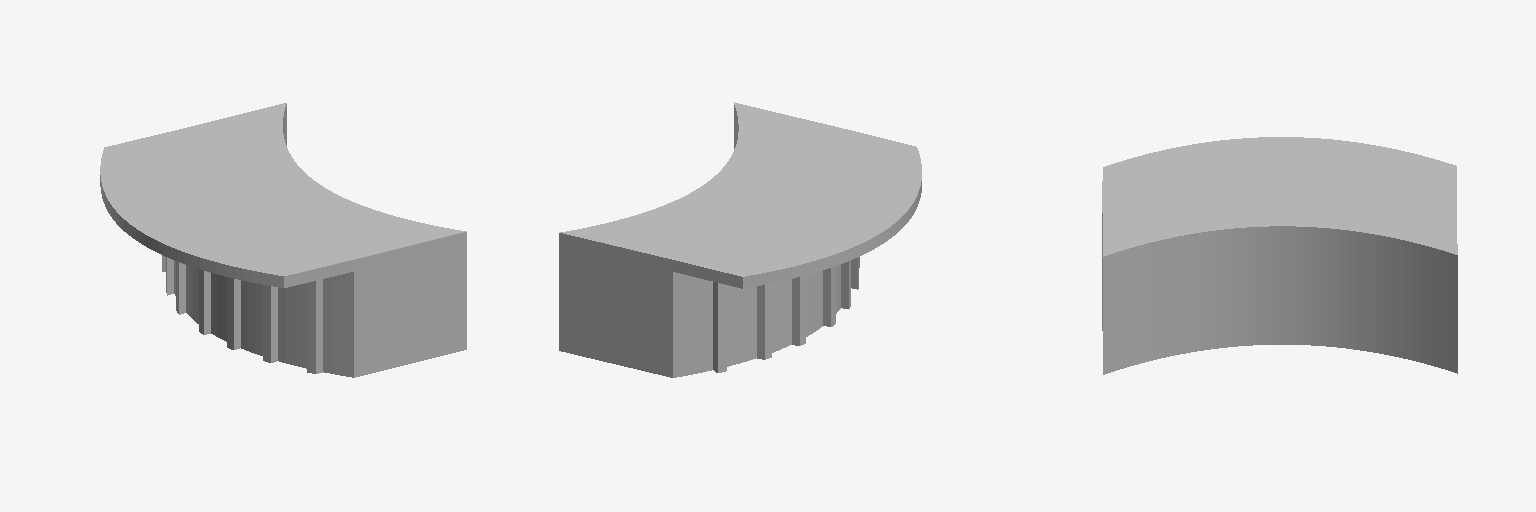
Rendered from bar_withoutdrinks.obj.
3 renders of one model, left to right at view 1: azimuth 30°, elevation 25°; view 2: azimuth 150°, elevation 25°; view 3: azimuth 270°, elevation 25°, orthographic.
Parts seen in each view (by area): view 1: desk_Cube.000_Cube.005; view 2: desk_Cube.000_Cube.005; view 3: desk_Cube.000_Cube.005.
Part boxes in pixels (x1,y1,x2,y2): desk_Cube.000_Cube.005: (100, 103, 466, 377); desk_Cube.000_Cube.005: (559, 102, 921, 377); desk_Cube.000_Cube.005: (1102, 137, 1457, 374).
Bounding box in the file's own units: 4.33 × 2 × 5.44.